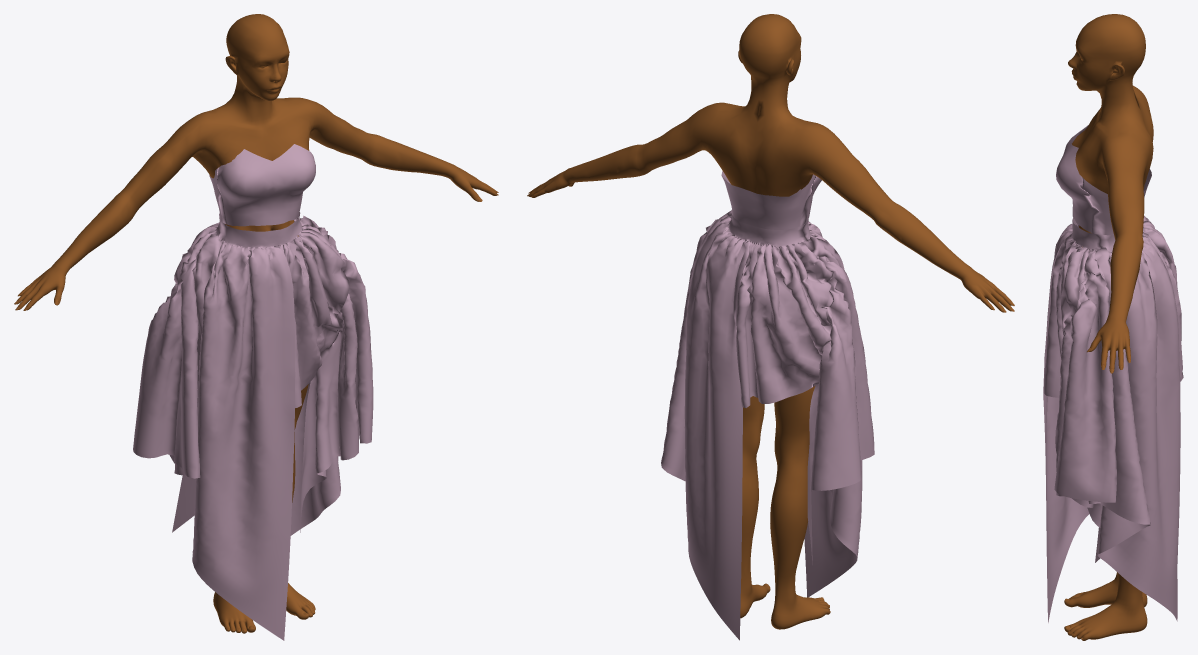
Rendered from dress8.glb.
3 renders of one model, left to right at view 1: azimuth 30°, elevation 25°; view 2: azimuth 150°, elevation 25°; view 3: azimuth 270°, elevation 25°, orthographic.
Visible parts, largest first — view 1: Project 1, Body; view 2: Project 1, Body; view 3: Project 1, Body.
Boxes of the visible parts, x1,y1,x2,y2 form: Project 1: [133, 144, 373, 640]; Body: [16, 14, 498, 633]; Project 1: [661, 171, 874, 640]; Body: [528, 14, 1011, 629]; Project 1: [1043, 125, 1183, 622]; Body: [1064, 14, 1153, 640].
Size of the model in its own units: 1.58 by 1.87 by 0.3896.
